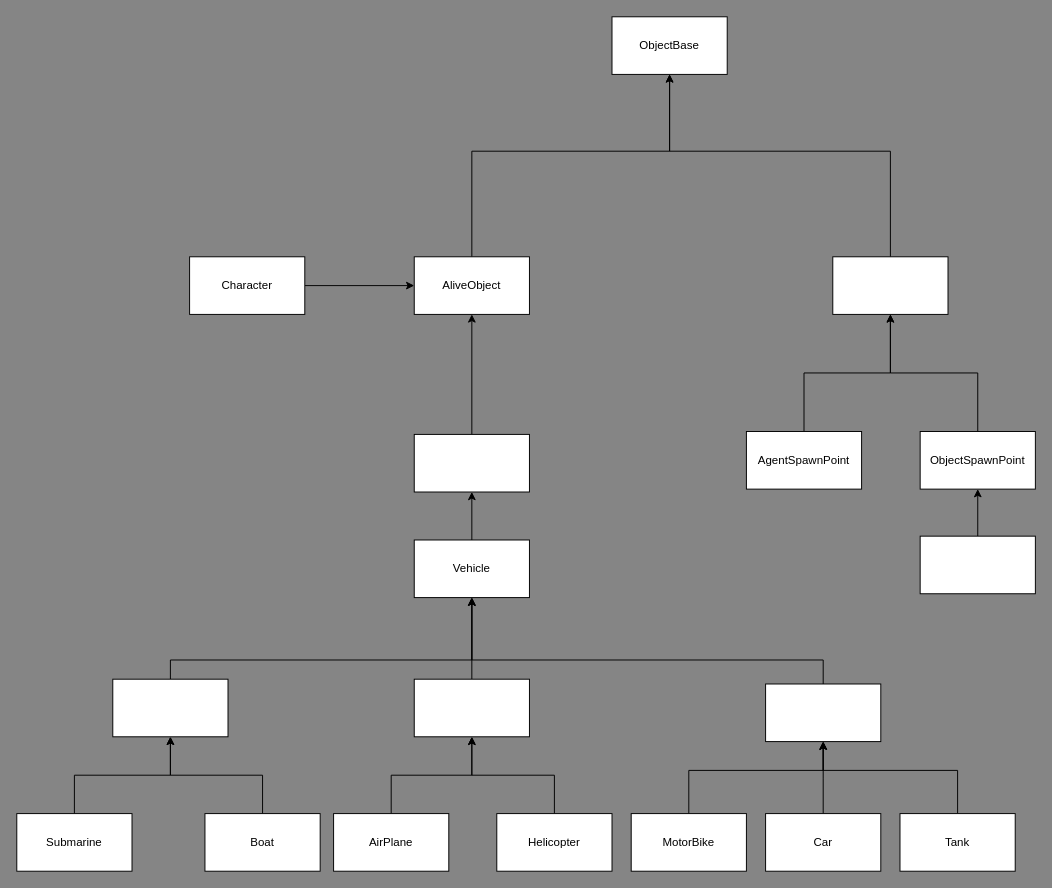
This 1052x888 diagram has some shape labels left out. Each missing label, with the centre of its shape:
"ActionPointOwner" belongs at pixel 471 462.
"AirVehicle" belongs at pixel 471 707.
"LandVehicle" belongs at pixel 823 712.
"SeaVehicle" belongs at pixel 170 707.
"SpawnPoint" belongs at pixel 890 285.
"VehicleSpawnPoint" belongs at pixel 977 564.
